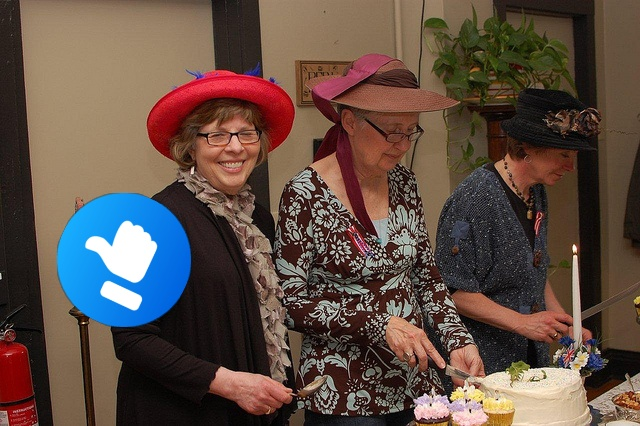like: (57, 193, 191, 327)
